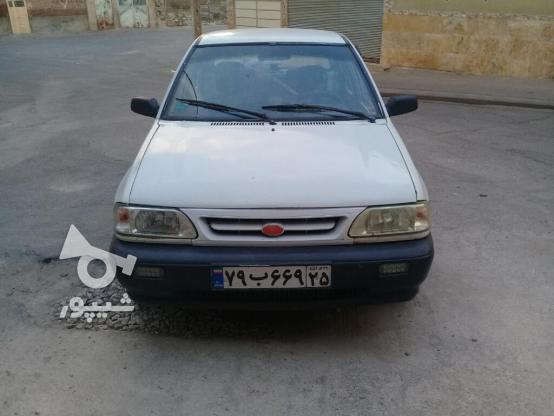car: (207, 262, 333, 290)
